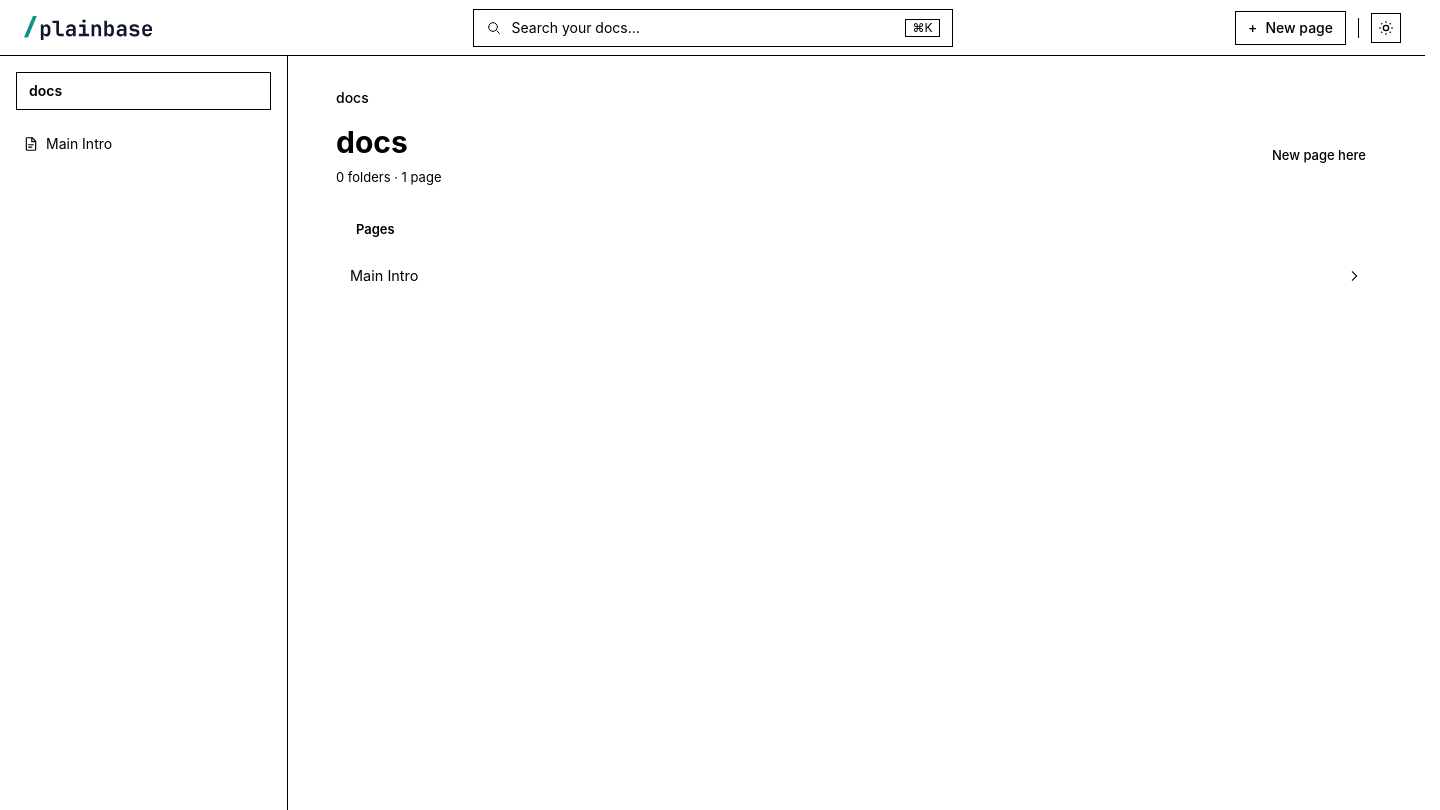
Scenario: Sidebar (the tree-fed parent) › renders one selector and only the route-owned root's tree when multiple roots exist
The width and height of the screenshot is (1440, 810).
Step 1. Click the button "docs" → (144, 91), box [16, 72, 271, 110]
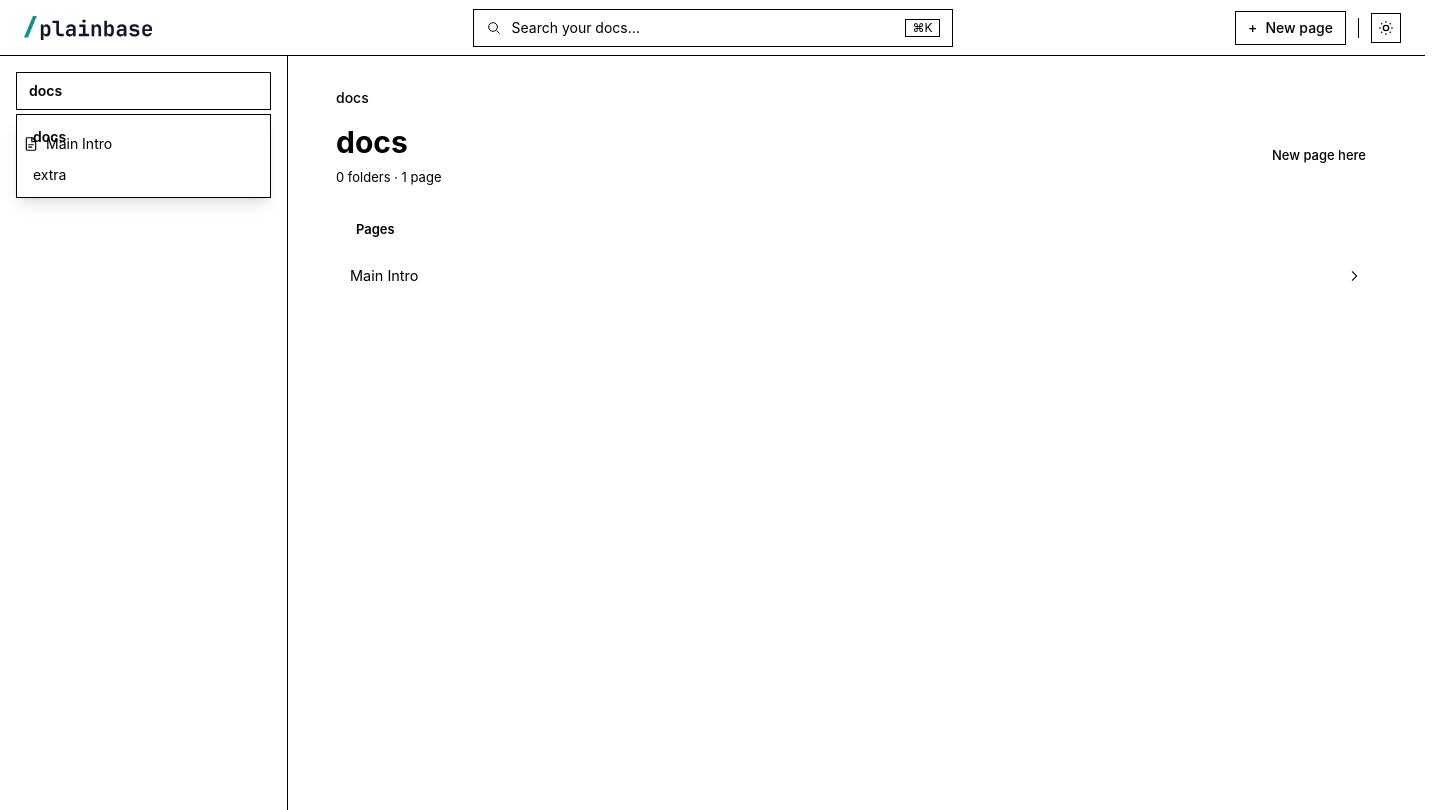
Expected: the link to "/docs/intro" is shown, [24, 135, 112, 152]
Expected: the list "docs extra" is shown, [16, 114, 271, 198]
